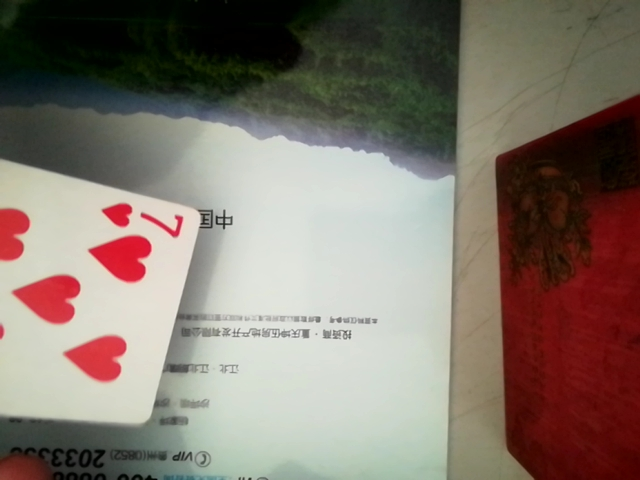hx 7: (0, 128, 208, 430)
